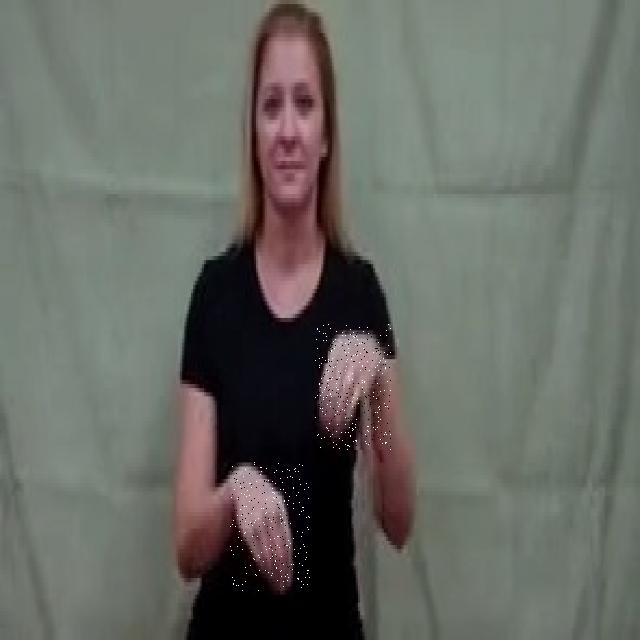ingredients: (230, 462, 310, 591), (316, 324, 392, 450)
